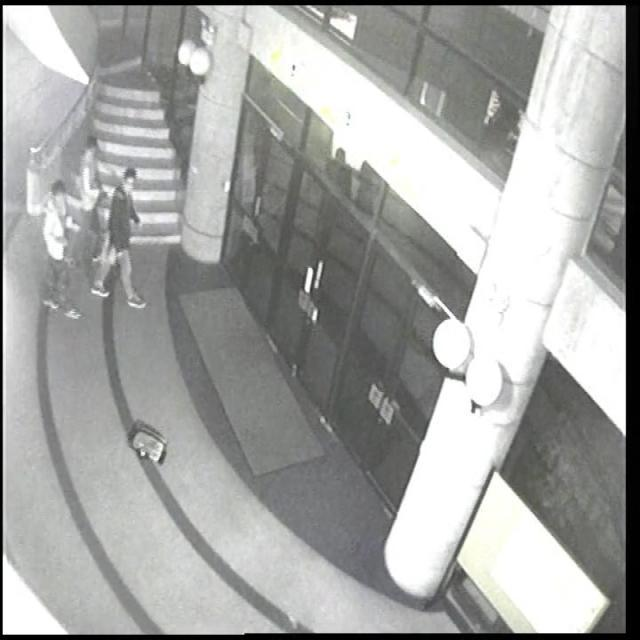abandoned-object: (104, 397, 186, 483)
